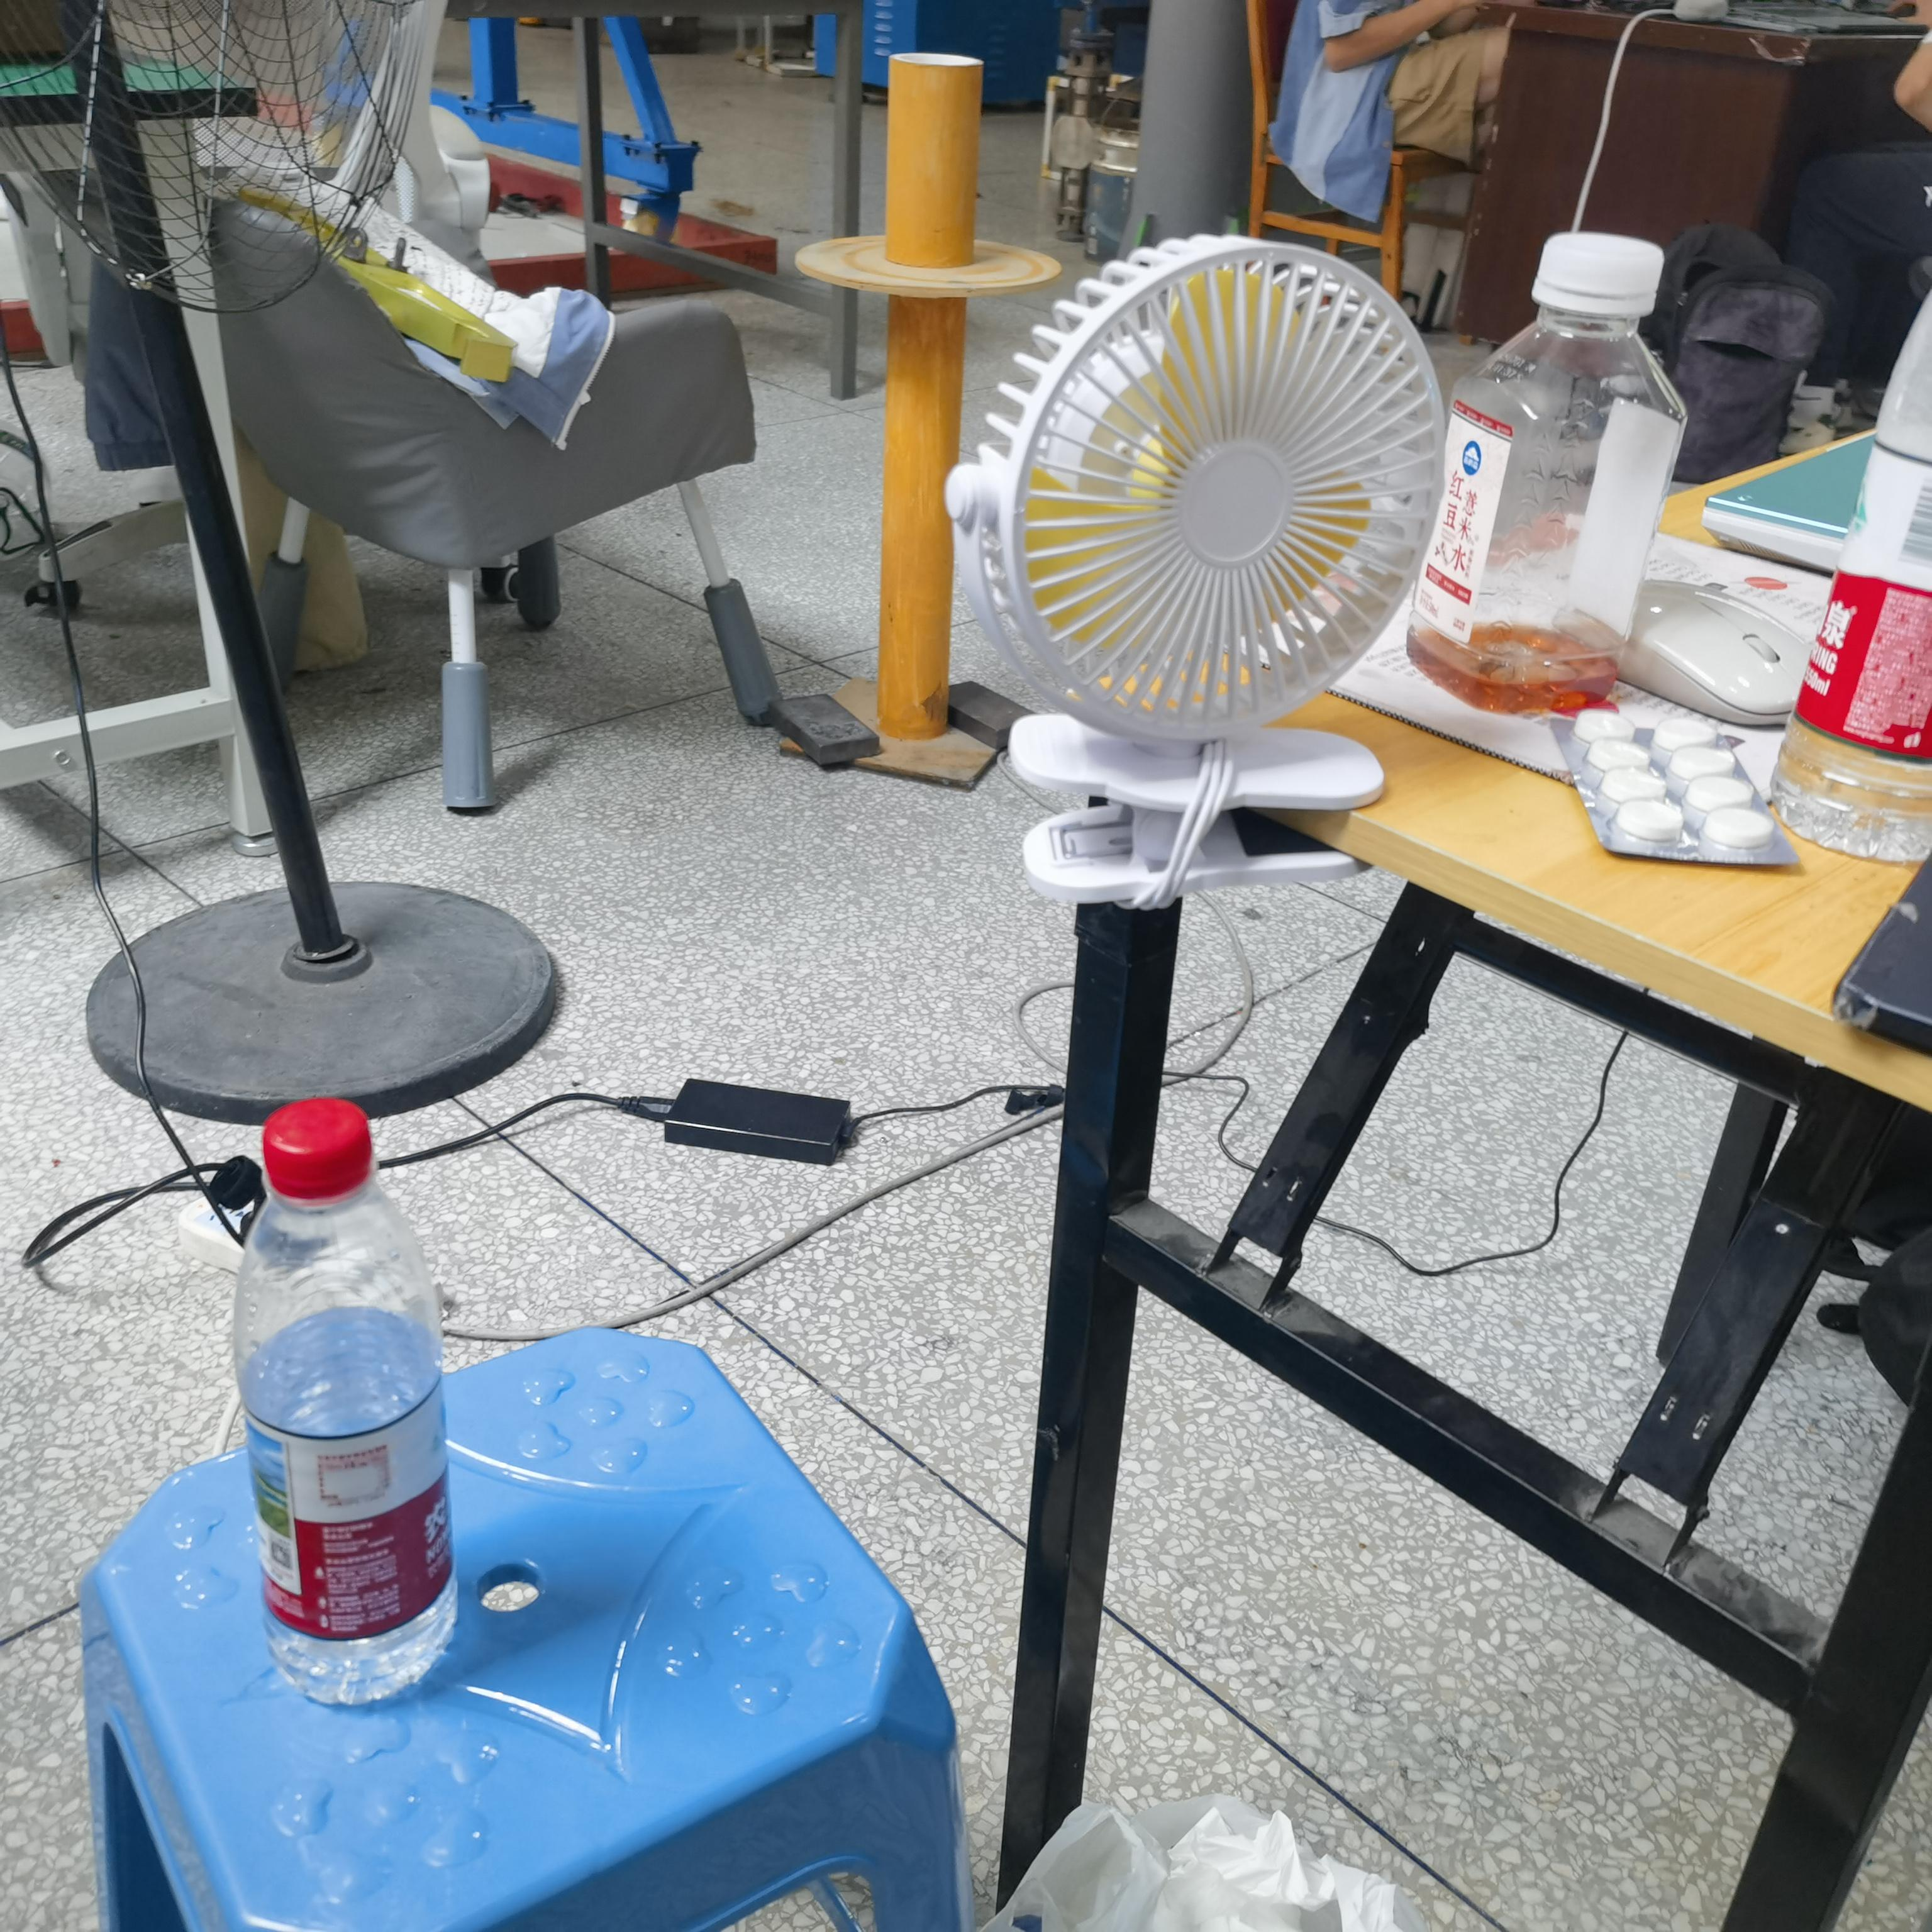bottle: (234, 1099, 456, 1706)
fan: (945, 235, 1445, 909)
